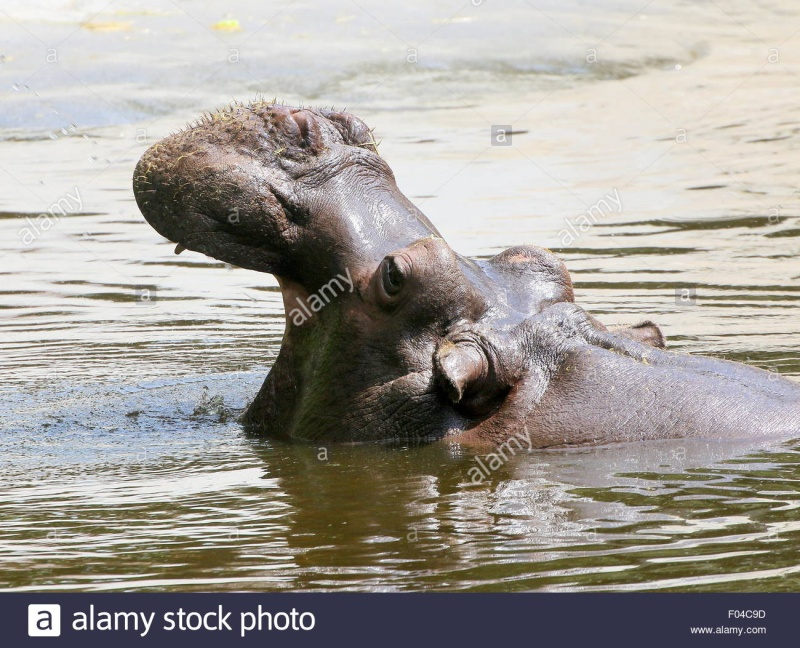hipopotamo: (129, 93, 800, 454)
